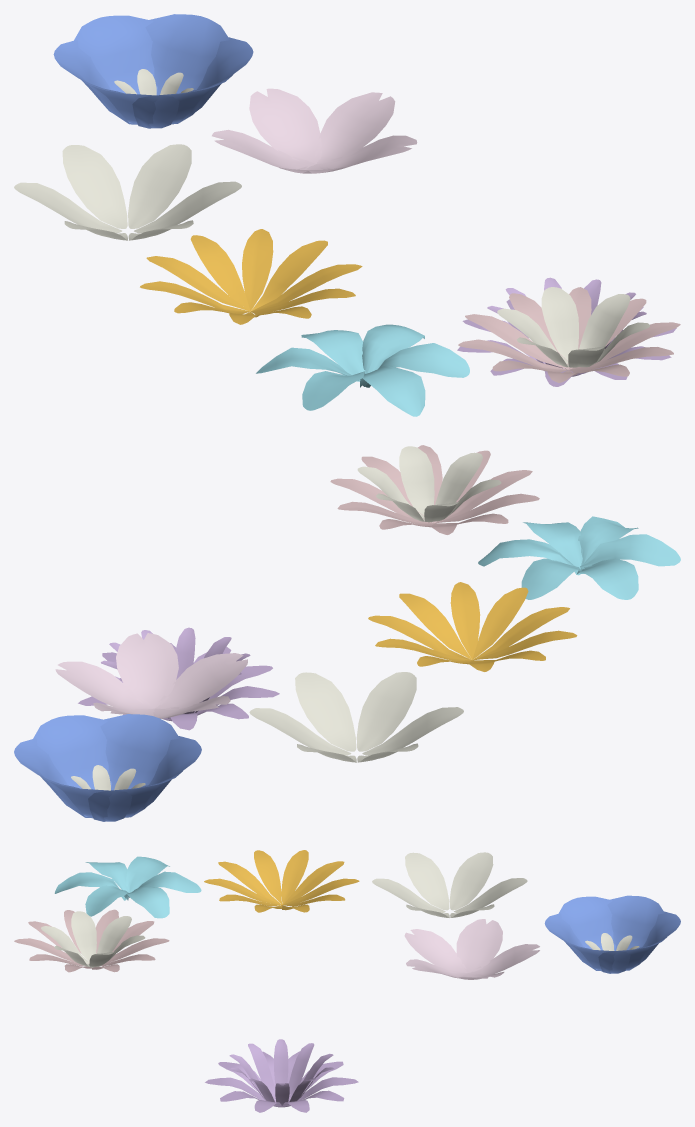
File: flower.fbx
3 views of the same model, one above another, from view 1: azimuth 30°, elevation 25°; view 2: azimuth 150°, elevation 25°; view 3: azimuth 270°, elevation 25° (orthographic). The views are drawn at different scales.
Visible parts, largest first — view 1: flower5, flower7, flower3, flower4, flower2, flower1, flower6; view 2: flower5, flower7, flower3, flower4, flower2, flower1, flower6; view 3: flower5, flower6, flower7, flower3, flower2, flower4, flower1.
Part boxes in pixels (left/top/right/bottom): flower5: left=53, top=14, right=253, bottom=128; flower7: left=458, top=287, right=680, bottom=382; flower3: left=14, top=144, right=241, bottom=240; flower4: left=212, top=88, right=417, bottom=173; flower2: left=140, top=229, right=362, bottom=324; flower1: left=256, top=324, right=469, bottom=416; flower6: left=457, top=277, right=676, bottom=386; flower5: left=14, top=714, right=201, bottom=821; flower7: left=330, top=445, right=539, bottom=534; flower3: left=249, top=672, right=463, bottom=762; flower4: left=55, top=633, right=247, bottom=718; flower2: left=368, top=582, right=577, bottom=671; flower1: left=478, top=516, right=680, bottom=599; flower6: left=78, top=627, right=279, bottom=730; flower5: left=544, top=895, right=680, bottom=973; flower6: left=205, top=1039, right=358, bottom=1112; flower7: left=14, top=909, right=169, bottom=972; flower3: left=372, top=852, right=527, bottom=917; flower2: left=204, top=850, right=359, bottom=912; flower4: left=404, top=919, right=539, bottom=979; flower1: left=54, top=856, right=201, bottom=918.
Bounding box in the file's own units: 8.59 × 3.06 × 14.44.
